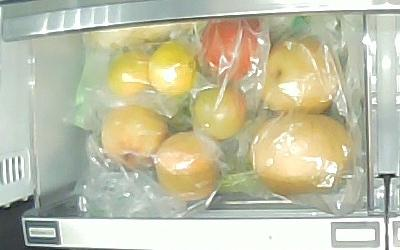peach_vinyl: (154, 131, 224, 201), (101, 104, 170, 171)
pear_vinyl: (249, 112, 357, 196), (257, 36, 338, 116)
tangerine_vinyl: (149, 41, 195, 98), (108, 52, 151, 98)
tomato_vinyl: (195, 15, 262, 85), (193, 85, 249, 141)
